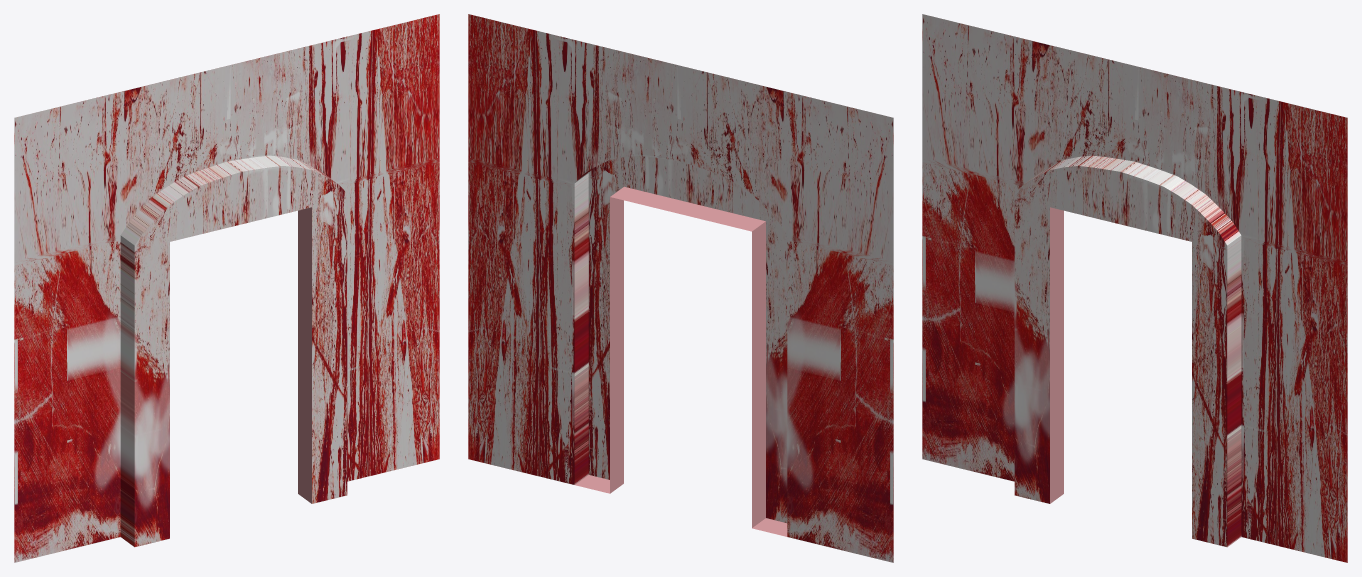
File: Marco_19.fbx
3 renders of one model, left to right at view 1: azimuth 30°, elevation 25°; view 2: azimuth 150°, elevation 25°; view 3: azimuth 330°, elevation 25°, orthographic.
Visible parts, largest first — view 1: Plane.037; view 2: Plane.037; view 3: Plane.037.
Boxes of the visible parts, x1=… form: Plane.037: x1=14, y1=14, x2=439, y2=562; Plane.037: x1=468, y1=14, x2=893, y2=562; Plane.037: x1=922, y1=14, x2=1347, y2=562.
Size of the model in its own units: 600 by 600 by 34.34.
